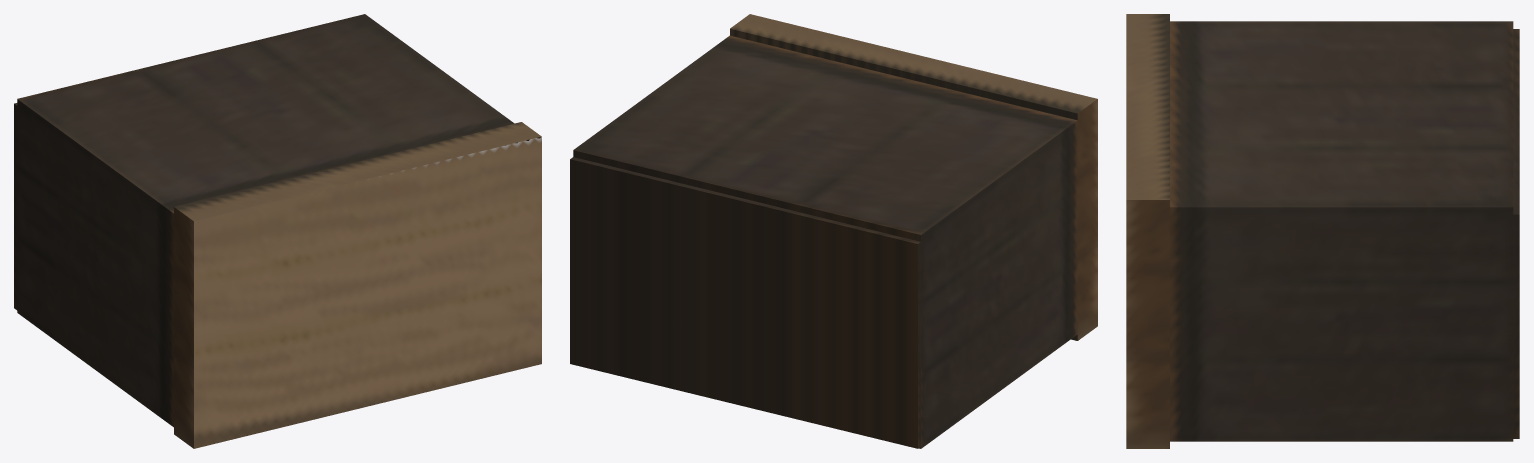
The model's file is pz_counter_wooden_floor.obj.
The picture shows the model from 3 angles, left to right: view 1: azimuth 30°, elevation 25°; view 2: azimuth 150°, elevation 25°; view 3: azimuth 270°, elevation 25°; orthographic projection. The views are drawn at different scales.
Bounding box in the file's own units: 1 × 0.6266 × 0.895.
Materials: 1 (1 with a texture image).
